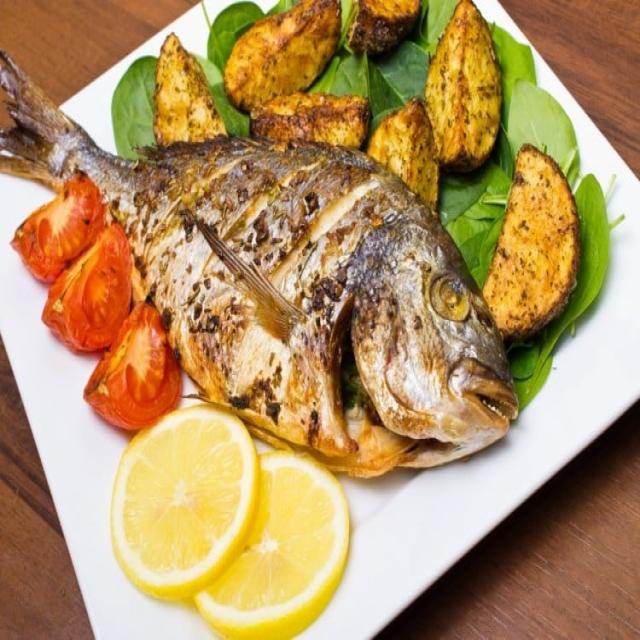Peixe: (0, 45, 520, 479), (480, 141, 581, 343)
